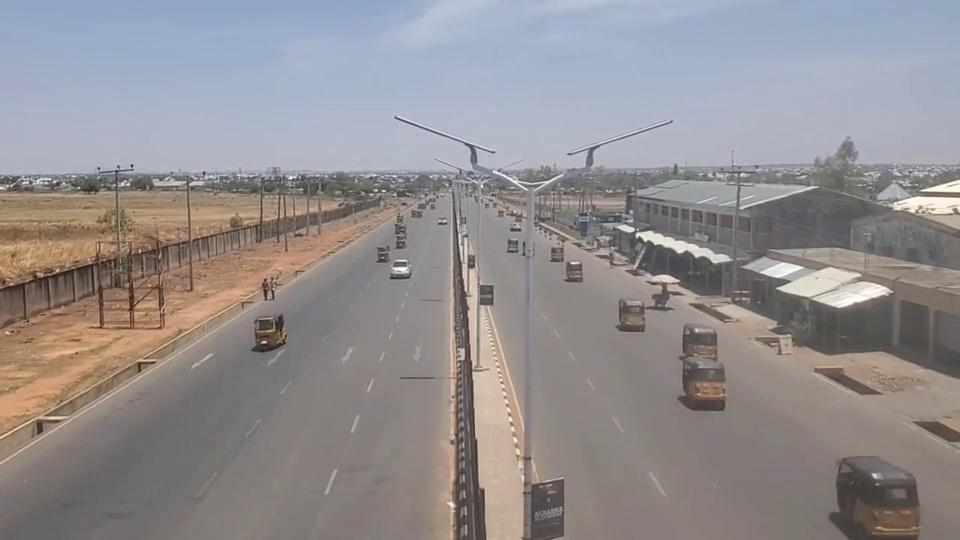car: (390, 259, 411, 279)
keke: (834, 454, 921, 538), (681, 355, 727, 409), (682, 322, 720, 362), (252, 313, 287, 349), (617, 297, 645, 331), (566, 261, 582, 281), (376, 246, 390, 262), (551, 246, 564, 262), (507, 238, 519, 253)
